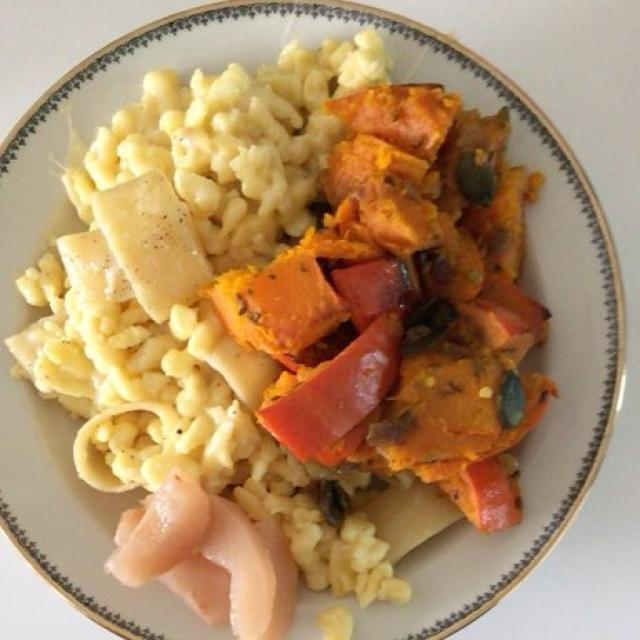apple: (59, 166, 294, 640)
pumpkin: (198, 91, 554, 523)
